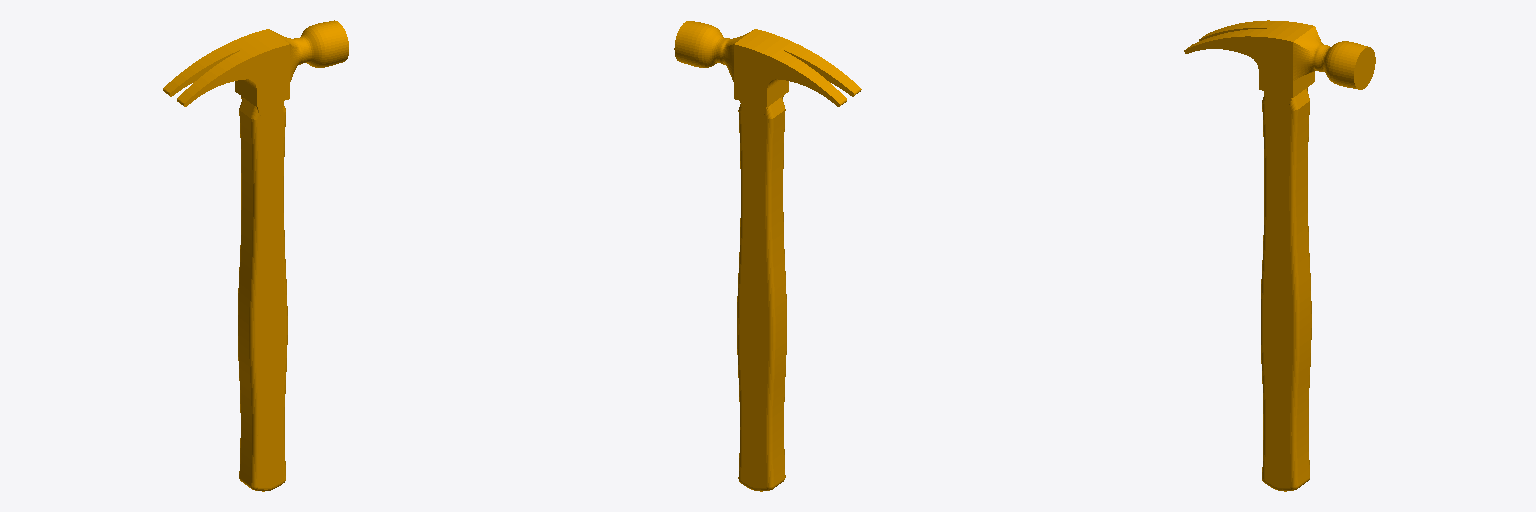
The robot description file, URDF, robot "hammer_01":
<?xml version="1.0"?>
<robot name="hammer_01">
  <link name="base_link">
    <inertial>
      <mass value="0.325" />
      <origin xyz="0 0 0" />
      <inertia  ixx="0.0002" ixy="0.0"  ixz="0.0"  iyy="0.0002"  iyz="0.0" izz="0.0002" />
    </inertial>
    <visual>
      <geometry>
        <mesh filename="assets/textured.obj" />
      </geometry>
    </visual>
    <collision>
      <geometry>
        <mesh filename="assets/textured.obj" />
      </geometry>
    </collision>
  </link>
</robot>

--- Render facts (derived) ---
3 views of the same robot in one strip: view 1: azimuth 30°, elevation 25°; view 2: azimuth 150°, elevation 25°; view 3: azimuth 330°, elevation 25° (orthographic).
Robot: hammer_01 — 1 links, 0 joints (none); root link base_link; default pose: every joint at zero.
Visible links, largest first — view 1: base_link; view 2: base_link; view 3: base_link.
Link boxes in pixels (x1,y1,x2,y2): base_link: [163, 20, 348, 491]; base_link: [674, 21, 861, 491]; base_link: [1184, 20, 1375, 491].
Size in the robot's own frame: 0.1237 by 0.0287 by 0.3192 metres.
1 mesh visuals loaded from 1 distinct referenced files (1 OBJ).